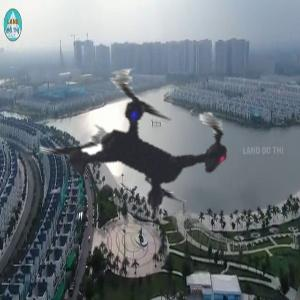drone: (6, 6, 283, 283)
